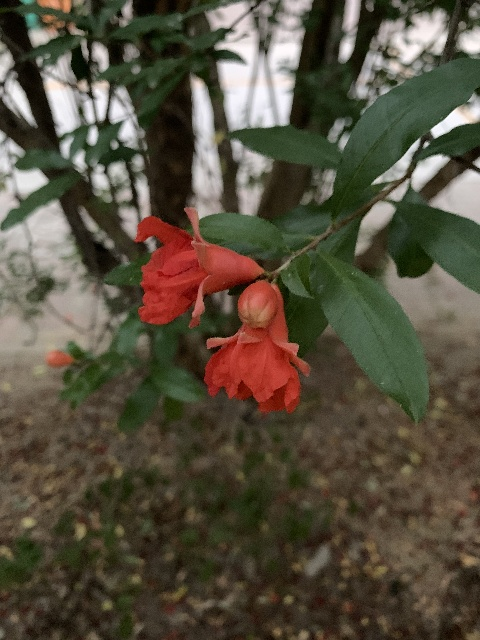bud: (238, 281, 280, 327), (45, 350, 74, 368)
flower: (133, 206, 263, 327), (203, 282, 311, 414)
